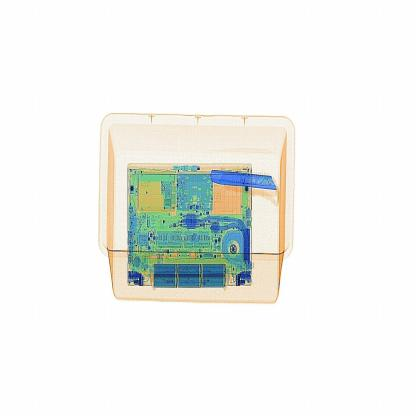pliers: (206, 164, 284, 198)
